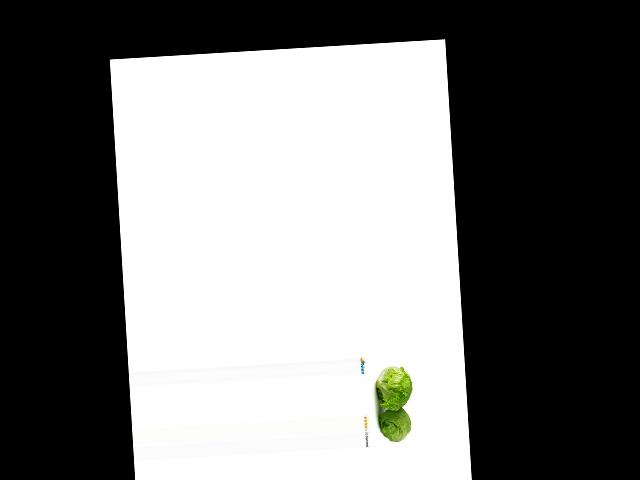lettuce: (370, 397, 412, 444)
